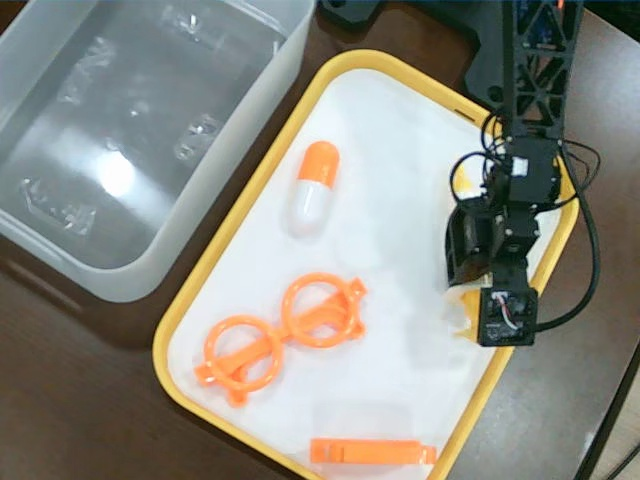pill: (282, 138, 340, 234)
